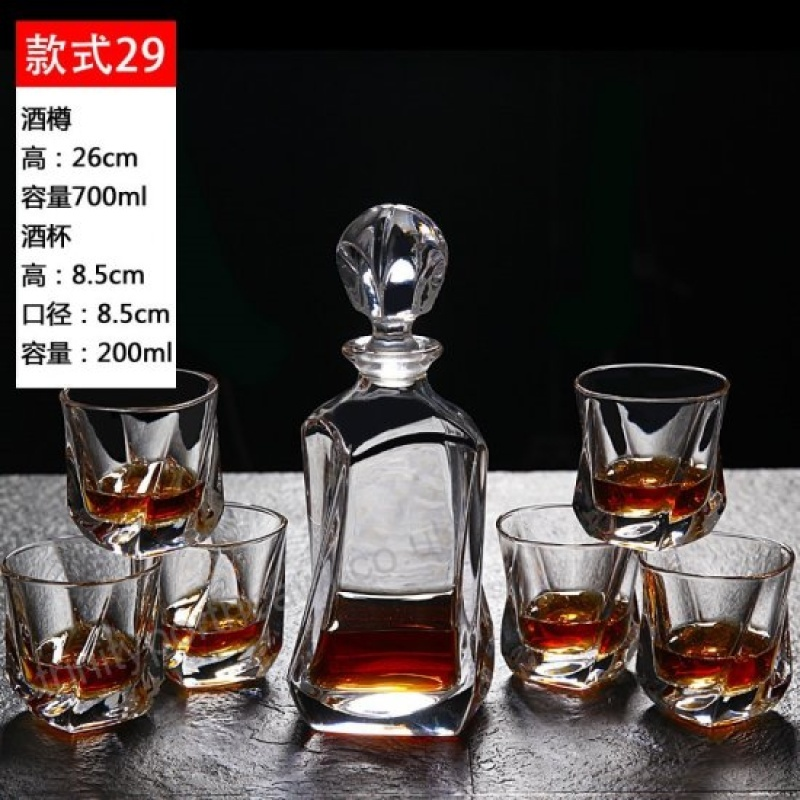whiskey: (562, 358, 736, 549), (11, 542, 167, 736), (639, 548, 786, 732), (75, 365, 222, 543), (497, 507, 638, 685)
